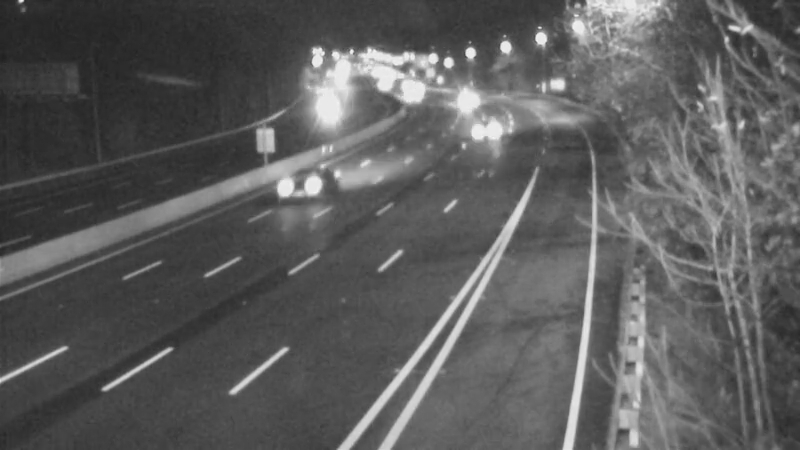vehicle: (258, 153, 338, 233), (392, 64, 442, 114), (435, 77, 485, 127), (380, 76, 430, 126), (454, 106, 504, 156), (300, 85, 350, 135)
